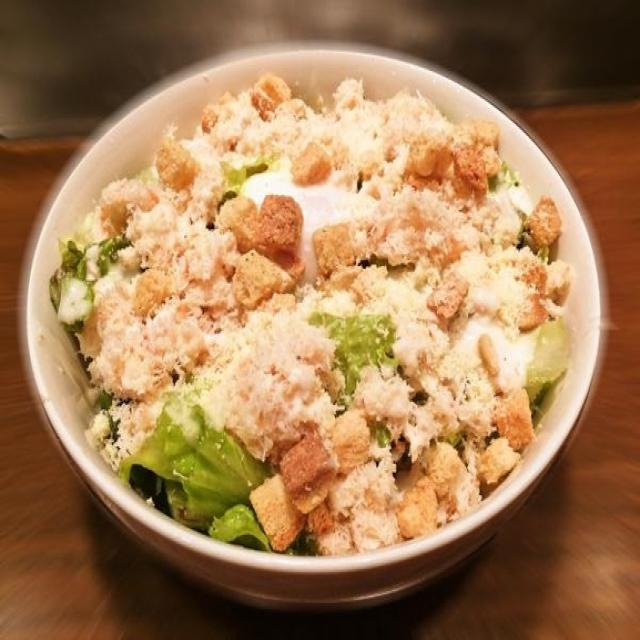蔬菜料理: (30, 40, 598, 585)
